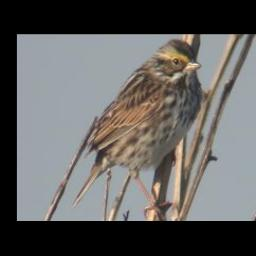Sparrow: (69, 39, 204, 218)
